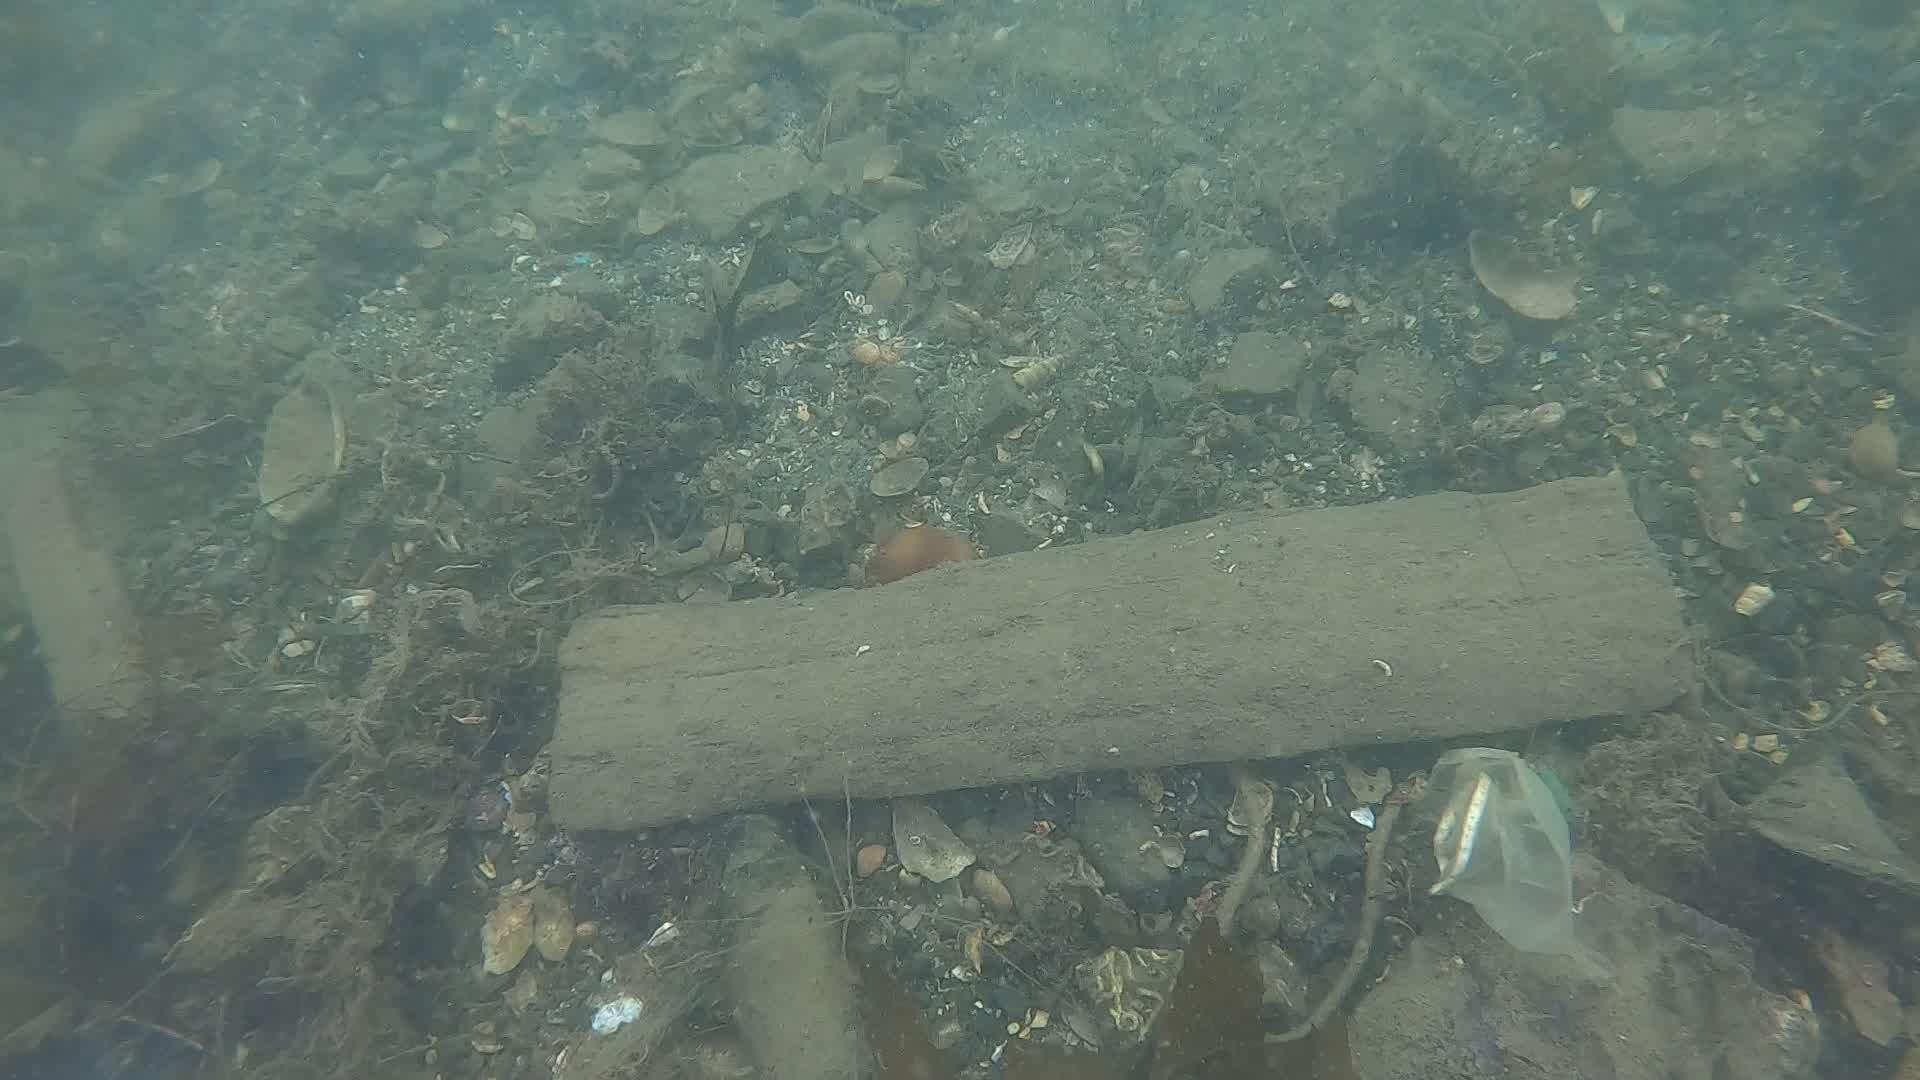wood: (542, 469, 1702, 833)
